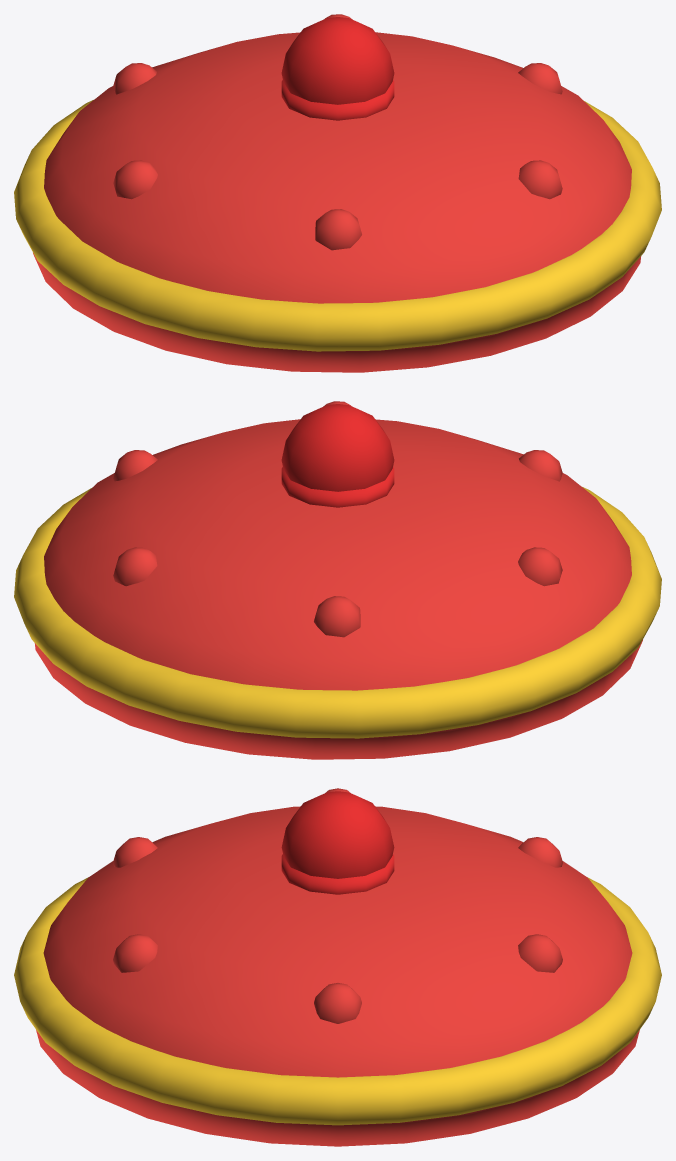
File: TanksMine.obj
3 renders of one model, top to bottom at view 1: azimuth 30°, elevation 25°; view 2: azimuth 150°, elevation 25°; view 3: azimuth 270°, elevation 25°, orthographic.
Parts seen in each view (by area): view 1: Body, Band, Light; view 2: Body, Band, Light; view 3: Body, Band, Light.
Boxes of the visible parts, left/top/right/bottom form: Body: left=33, top=14, right=641, bottom=372; Band: left=14, top=100, right=661, bottom=351; Light: left=281, top=17, right=394, bottom=120; Body: left=34, top=401, right=642, bottom=759; Band: left=14, top=487, right=661, bottom=738; Light: left=281, top=404, right=394, bottom=507; Body: left=36, top=788, right=639, bottom=1146; Band: left=14, top=877, right=661, bottom=1125; Light: left=281, top=791, right=394, bottom=894.
Size of the model in its own units: 2.76 by 1.04 by 2.76.
